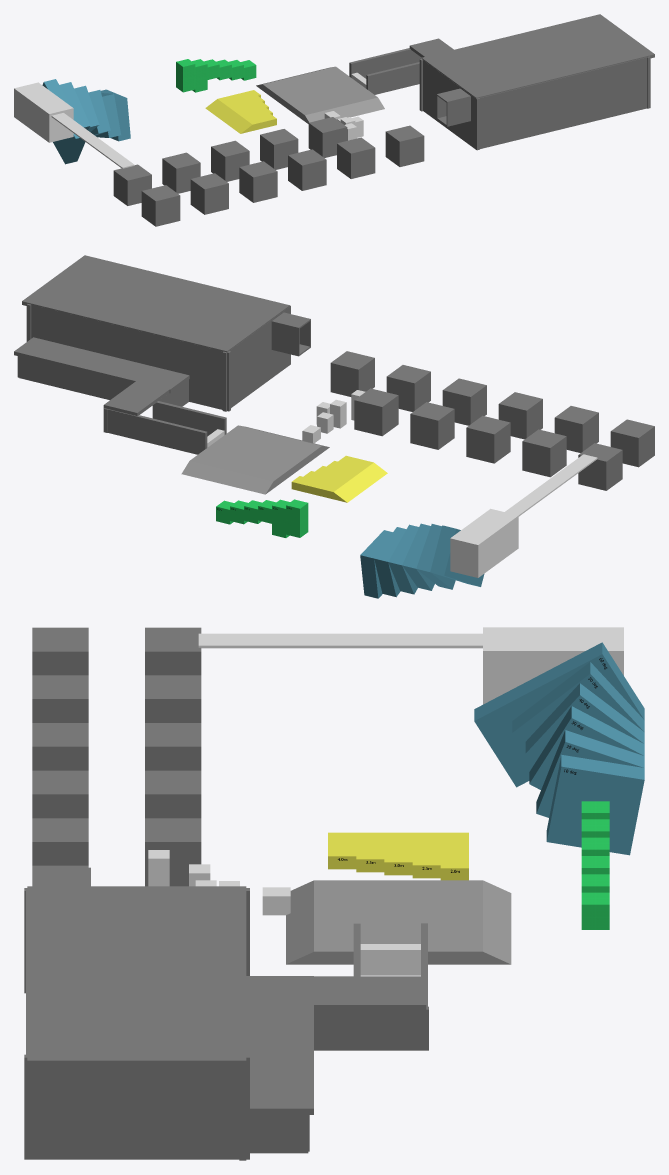
The model's file is Gym area.glb.
3 renders of one model, top to bottom at view 1: azimuth 30°, elevation 25°; view 2: azimuth 150°, elevation 25°; view 3: azimuth 270°, elevation 25°, orthographic. The views are drawn at different scales.
Visible parts, largest first — view 1: Ceiling.001, Cube.015, Cube.002, Cube.001, Start platform, Cube, Cube.017, Cube.011, Cube.029, Cube.012, Cube.007, 60 deg (+9 smaller); view 2: Ceiling.001, Cube.002, Cube.001, Cube.023, Start platform, Ceiling, Cube, Cube.017, Cube.012, Cube.013, Cube.029, Cube.011 (+10 smaller); view 3: Ceiling.001, Cube.016, Start platform, Cube.002, Cube.001, Ceiling, 10 deg, Cube, 60 deg, Cube.009, Cube.007, Ceiling.002 (+16 smaller).
Part boxes in pixels (box(x1,y1,x2,y2)): Ceiling.001: box(421, 14, 654, 98); Cube.015: box(474, 57, 646, 149); Cube.002: box(141, 125, 424, 226); Cube.001: box(113, 117, 347, 205); Start platform: box(256, 66, 384, 123); Cube: box(14, 82, 73, 142); Cube.017: box(420, 58, 479, 150); Cube.011: box(366, 62, 419, 94); Cube.029: box(436, 88, 470, 126); Cube.012: box(349, 48, 421, 78); Cube.007: box(51, 113, 134, 168); 60 deg: box(42, 79, 85, 164); Ceiling.001: box(22, 255, 289, 352); Cube.002: box(330, 351, 654, 467); Cube.001: box(354, 388, 622, 490); Cube.023: box(26, 303, 230, 411); Start platform: box(181, 425, 329, 494); Ceiling: box(14, 337, 189, 392); Cube: box(450, 508, 518, 577); Cube.017: box(222, 305, 290, 411); Cube.012: box(105, 408, 207, 454); Cube.013: box(19, 356, 131, 399); Cube.029: box(271, 312, 310, 356); Cube.011: box(152, 401, 226, 436); Ceiling.001: box(27, 886, 246, 1066); Cube.016: box(24, 1054, 249, 1159); Start platform: box(286, 880, 511, 964); Cube.002: box(32, 627, 88, 886); Cube.001: box(145, 627, 201, 886); Ceiling: box(246, 976, 313, 1114); 10 deg: box(546, 754, 644, 855); Cube: box(483, 627, 623, 704); 60 deg: box(474, 642, 644, 787); Cube.009: box(314, 1006, 428, 1050); Cube.007: box(198, 633, 482, 648); Ceiling.002: box(314, 976, 426, 1011).
Size of the model in its own units: 81.63 by 14.06 by 44.05.
10 materials, 1 textured.
